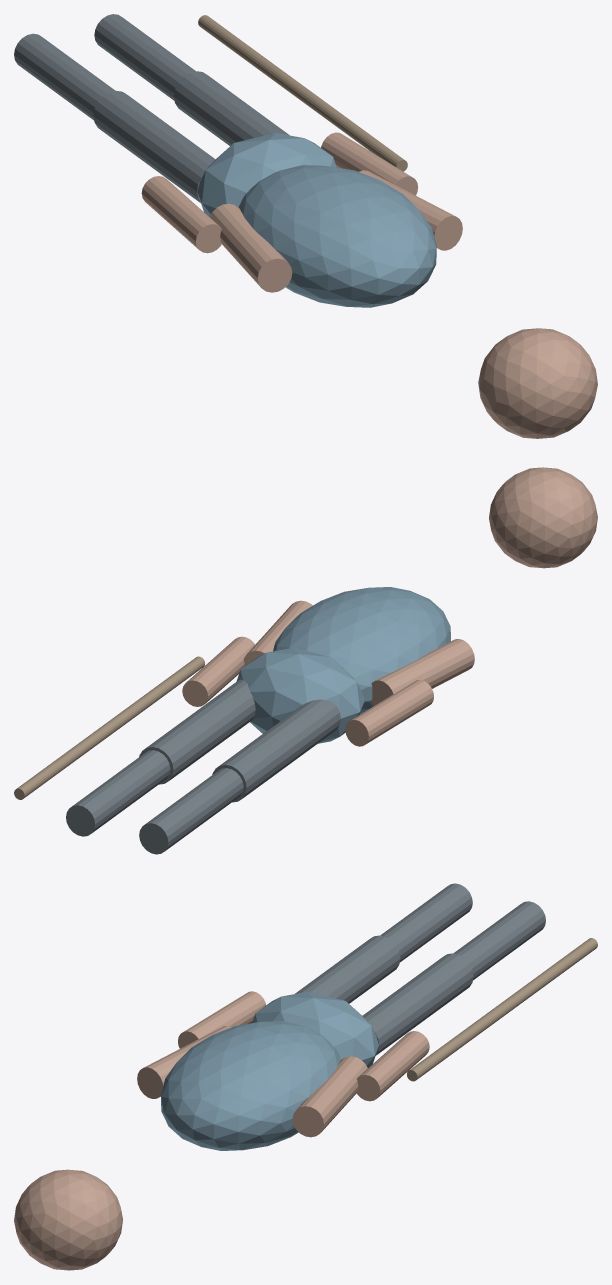
The model's file is older-medium.glb.
The picture shows the model from 3 angles, top to bottom: view 1: azimuth 30°, elevation 25°; view 2: azimuth 150°, elevation 25°; view 3: azimuth 330°, elevation 25°; orthographic projection. The views are drawn at different scales.
Visible parts, largest first — view 1: torso, head, left_thigh, pelvis, right_thigh, right_lower_leg, left_lower_leg, cane, left_upper_arm, left_forearm, right_forearm, right_upper_arm; view 2: torso, head, pelvis, left_thigh, right_thigh, left_lower_leg, right_lower_leg, cane, left_upper_arm, left_forearm, right_forearm, right_upper_arm; view 3: torso, head, right_thigh, pelvis, left_thigh, left_lower_leg, right_lower_leg, cane, right_upper_arm, right_forearm, left_forearm, left_upper_arm.
Boxes of the visible parts, left/top/right/bottom form: torso: left=238, top=165, right=436, bottom=307; head: left=478, top=328, right=597, bottom=438; left_thigh: left=93, top=90, right=215, bottom=202; pelvis: left=197, top=133, right=336, bottom=216; right_thigh: left=174, top=71, right=289, bottom=145; right_lower_leg: left=94, top=14, right=195, bottom=100; left_lower_leg: left=14, top=33, right=115, bottom=120; cane: left=198, top=15, right=407, bottom=171; left_upper_arm: left=210, top=203, right=292, bottom=292; left_forearm: left=141, top=176, right=221, bottom=253; right_forearm: left=321, top=132, right=418, bottom=195; right_upper_arm: left=359, top=170, right=462, bottom=250; torso: left=273, top=587, right=450, bottom=714; head: left=489, top=467, right=597, bottom=568; pelvis: left=236, top=648, right=364, bottom=743; left_thigh: left=212, top=699, right=340, bottom=802; right_thigh: left=139, top=679, right=255, bottom=784; left_lower_leg: left=139, top=768, right=243, bottom=854; right_lower_leg: left=66, top=750, right=170, bottom=836; cane: left=14, top=656, right=204, bottom=799; left_upper_arm: left=371, top=639, right=474, bottom=705; left_forearm: left=345, top=680, right=433, bottom=746; right_forearm: left=182, top=636, right=254, bottom=706; right_upper_arm: left=243, top=600, right=312, bottom=666; torso: left=161, top=1021, right=341, bottom=1150; head: left=14, top=1169, right=122, bottom=1270; right_thigh: left=362, top=953, right=473, bottom=1055; pelvis: left=252, top=991, right=378, bottom=1067; left_thigh: left=295, top=935, right=400, bottom=1003; left_lower_leg: left=380, top=883, right=472, bottom=962; right_lower_leg: left=453, top=901, right=545, bottom=980; cane: left=407, top=938, right=597, bottom=1081; right_upper_arm: left=292, top=1056, right=367, bottom=1137; right_forearm: left=356, top=1031, right=429, bottom=1101; left_forearm: left=178, top=991, right=265, bottom=1048; left_upper_arm: left=137, top=1026, right=231, bottom=1098.
Size of the model in its own units: 1.42 by 0.576 by 5.15.
